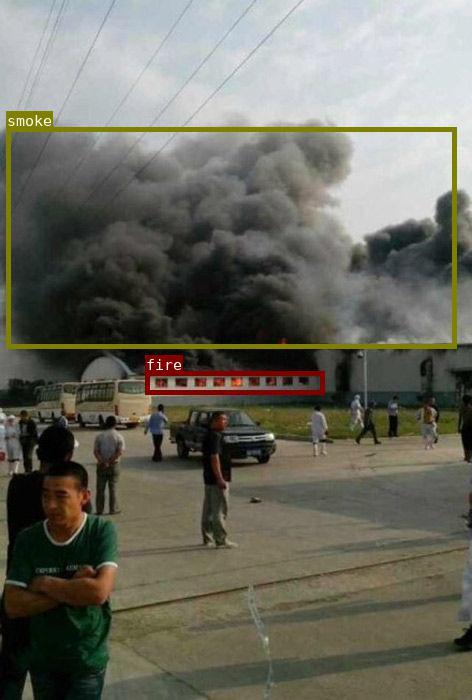fire: (144, 370, 323, 394)
smoke: (6, 126, 455, 347)
